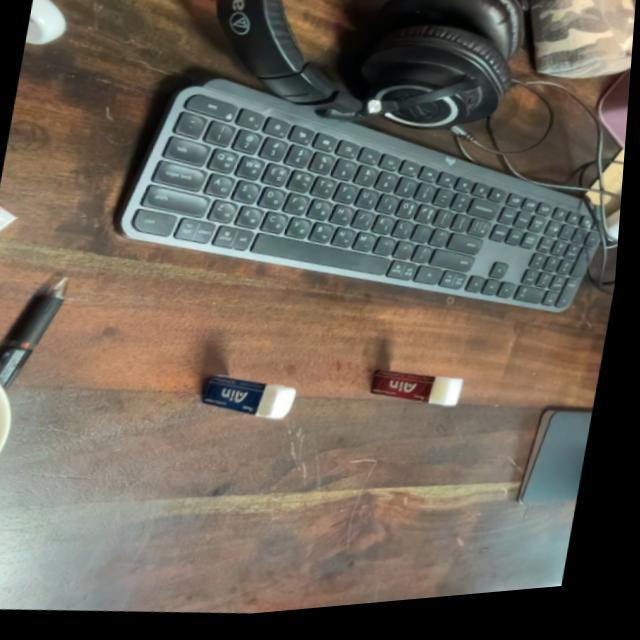blue: (187, 369, 320, 439)
red: (354, 364, 484, 428)
